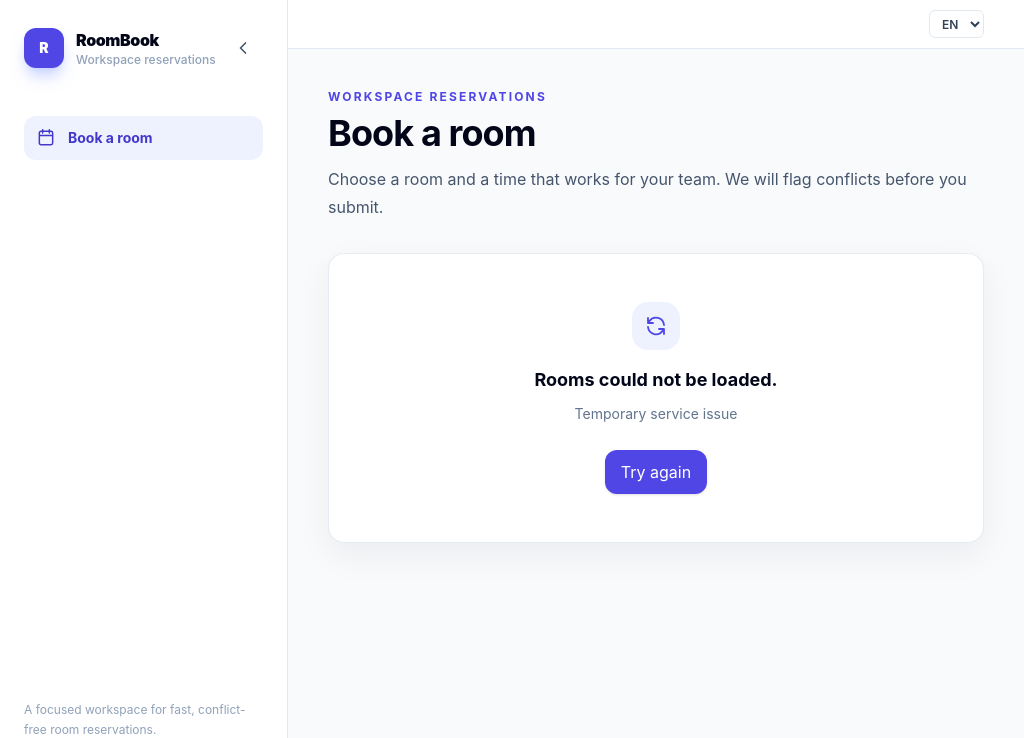
it: application workspace › offers retry after a room loading failure
Expected: the text "Temporary service issue" is shown, [575, 402, 737, 426]
Click the button "Try again" at coordinates (656, 472), box [605, 450, 707, 494]
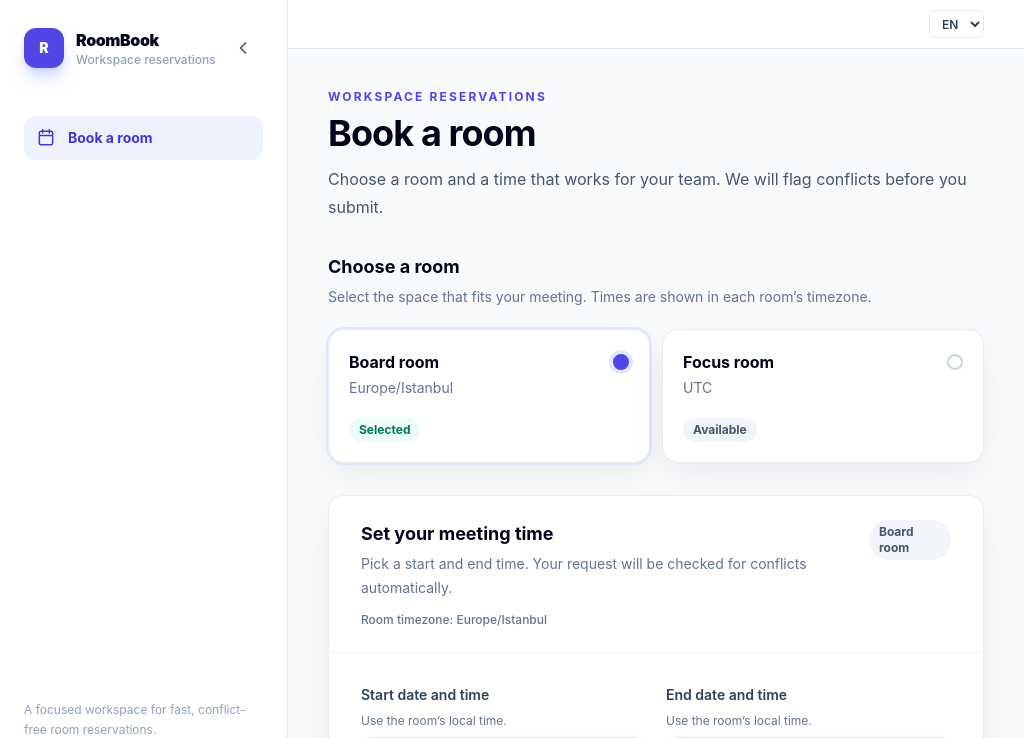
Expected: the radio button labelled "Board room Europe/Istanbul Selected" is shown, [329, 330, 649, 462]
